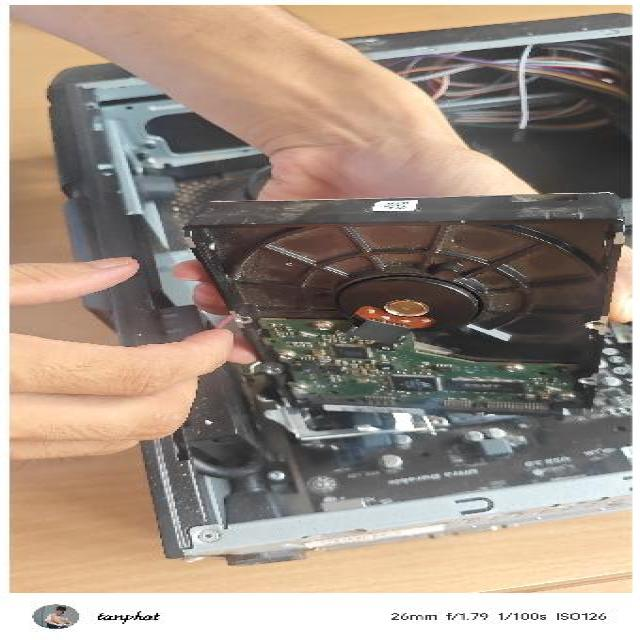DISK: (183, 193, 630, 421)
